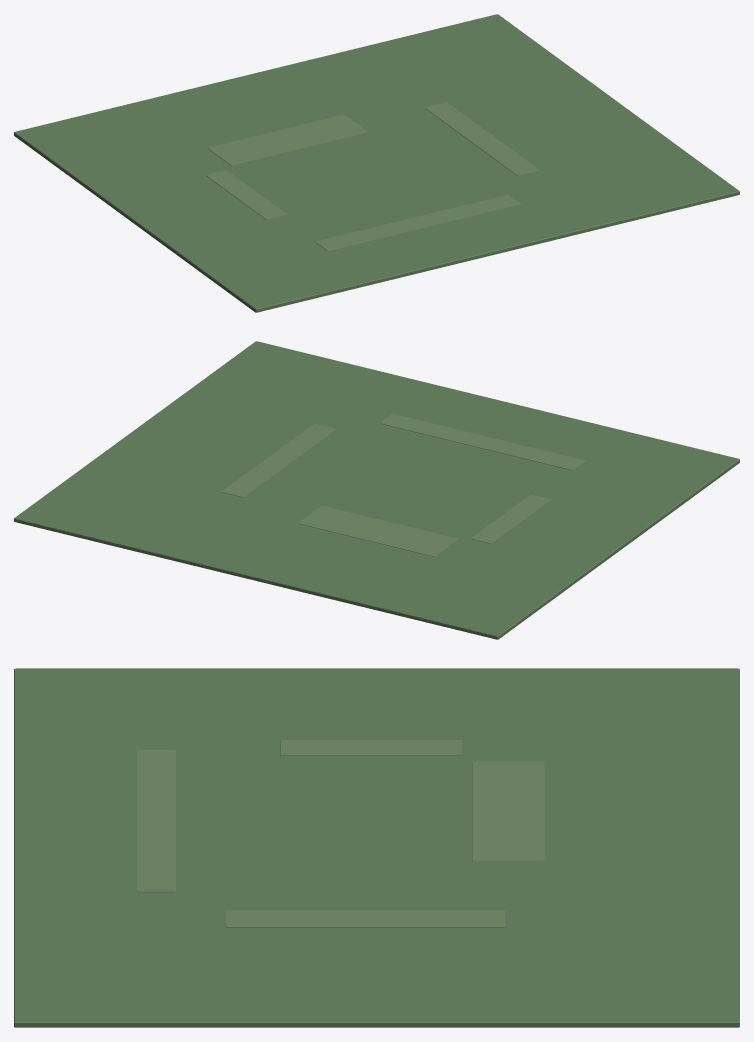
The model's file is floor-terrace.glb.
3 views of the same model, one above another, from view 1: azimuth 30°, elevation 25°; view 2: azimuth 150°, elevation 25°; view 3: azimuth 270°, elevation 25° (orthographic). The views are drawn at different scales.
Visible parts, largest first — view 1: floor-terrace; view 2: floor-terrace; view 3: floor-terrace.
Boxes of the visible parts, bbox=[...] form: floor-terrace: bbox=[14, 14, 739, 312]; floor-terrace: bbox=[14, 341, 739, 639]; floor-terrace: bbox=[14, 668, 739, 1027].
Bounding box in the file's own units: 30 × 0.25 × 26.
